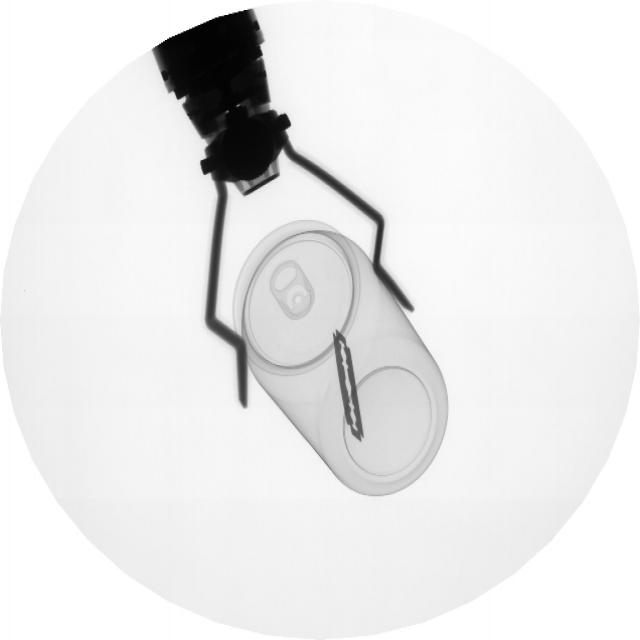BLADE: (326, 325, 373, 450)
